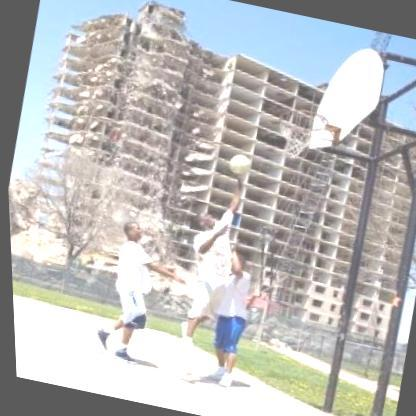basketball: (220, 148, 256, 179)
